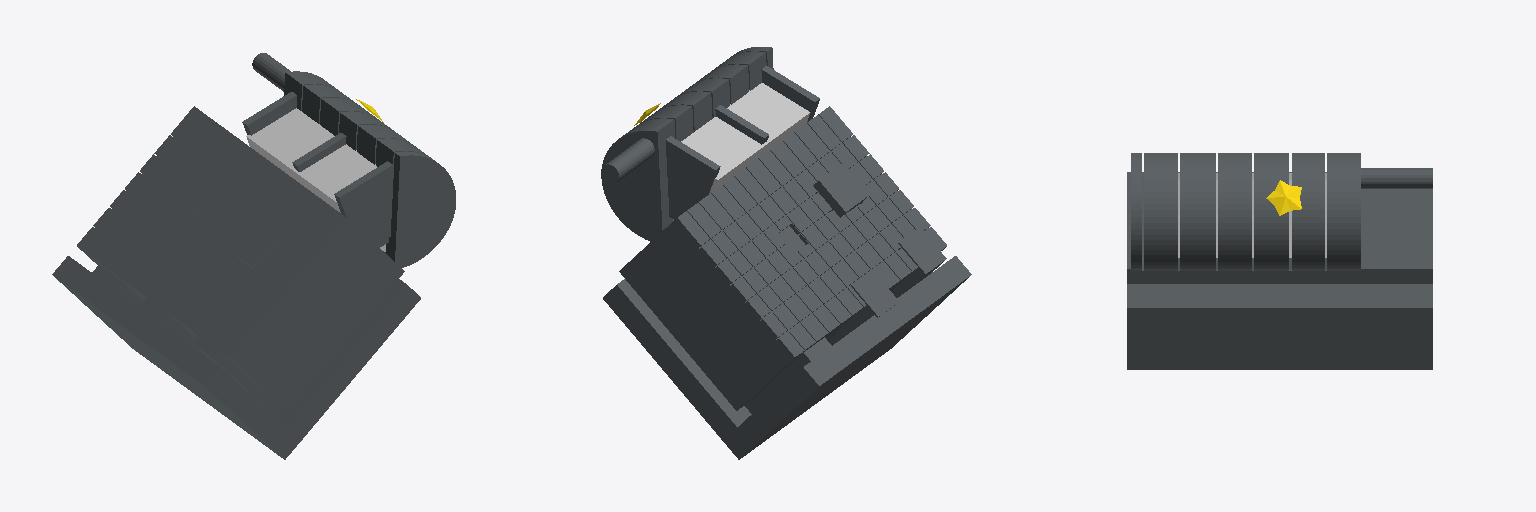
The model's file is tinker 2.obj.
3 views of the same model, side by side, from view 1: azimuth 30°, elevation 25°; view 2: azimuth 150°, elevation 25°; view 3: azimuth 270°, elevation 25° (orthographic).
Visible parts, largest first — view 1: obj_0; view 2: obj_0; view 3: obj_0.
Part boxes in pixels (left/top/right/bottom): obj_0: left=52, top=53, right=455, bottom=459; obj_0: left=601, top=47, right=971, bottom=459; obj_0: left=1127, top=153, right=1432, bottom=369.
Bounding box in the file's own units: 20.29 × 20.77 × 20.98.